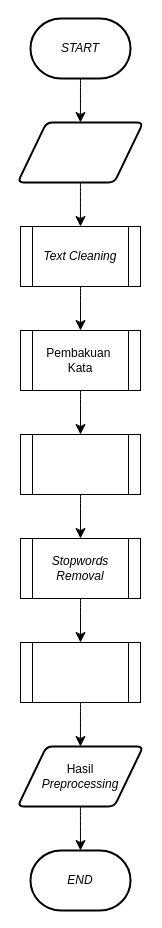
Image size: 162x928. Some labels were removed from this diagram. The shapes that lost their labels are listed below. From the top down, each one's centre as x and y in pixels, then its label:
At point 80,152: "Data Teks".
At point 80,464: "Negation Handling".
At point 80,672: "Stemming".
